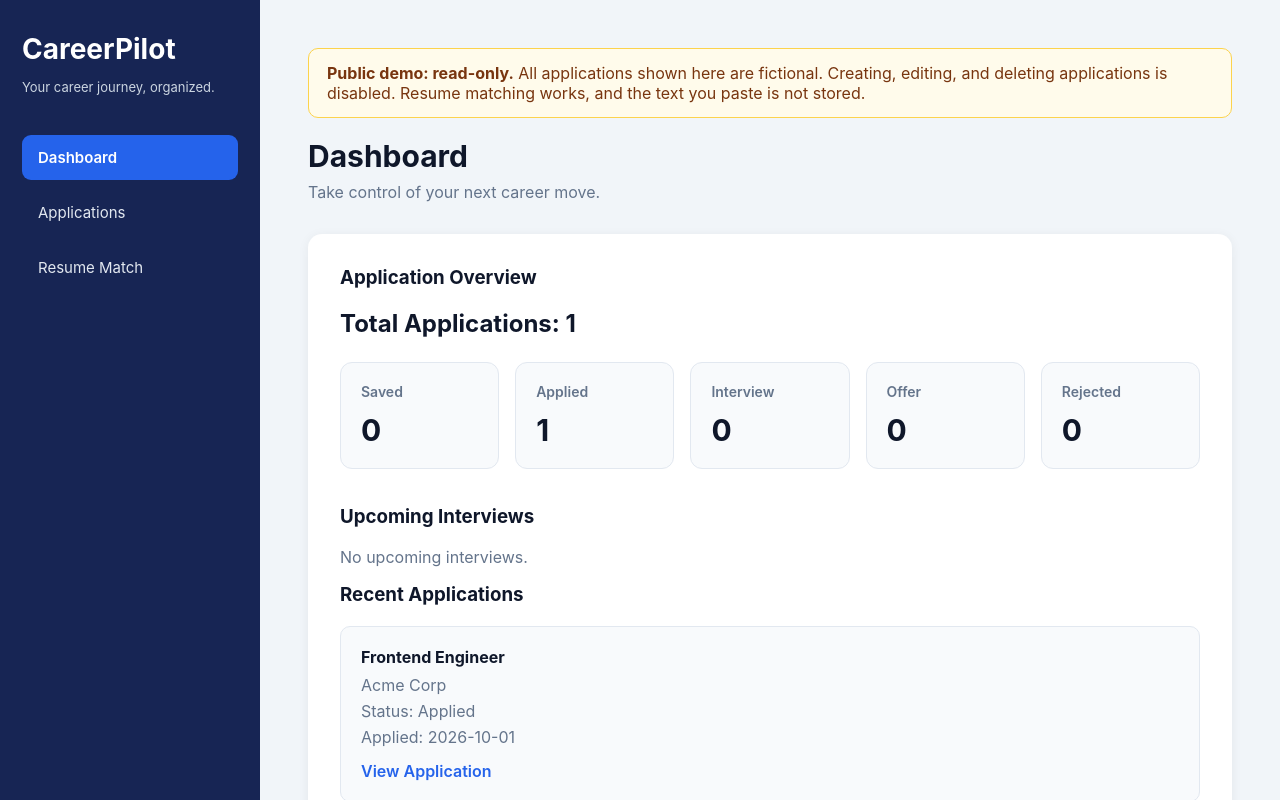
Test case: App public demo awareness › shows the read-only banner and hides write actions in the demo
Expected: the element that starts with "Public demo: read-only." is shown, [327,63,514,83]
Expected: the element that starts with "Public demo: read-only." shows "fictional", [327,63,1167,103]
Click the button "View Application": (426, 771) [361,761,492,781]
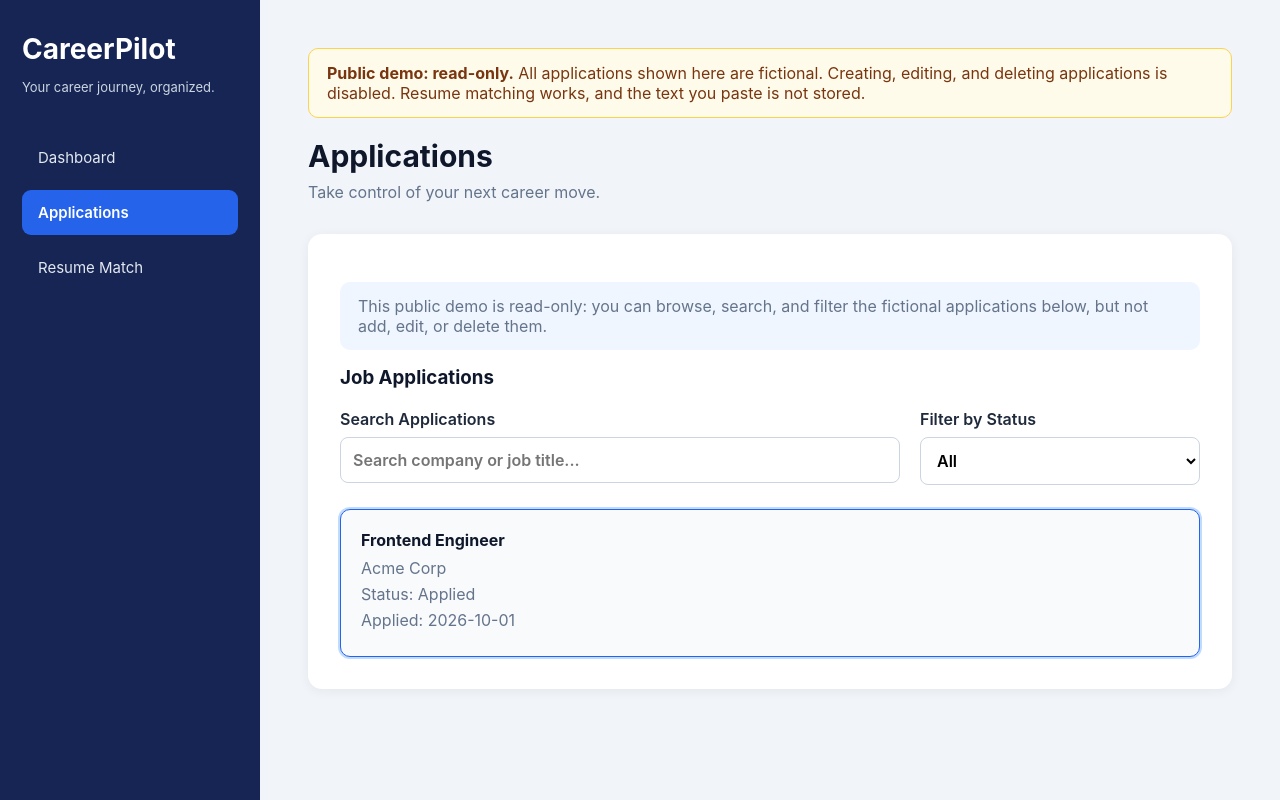
Expected: the text "Status: Applied" is shown, [361,584,475,604]
Now the text "This public demo is read-only" is shown, box [358,296,1148,336]
